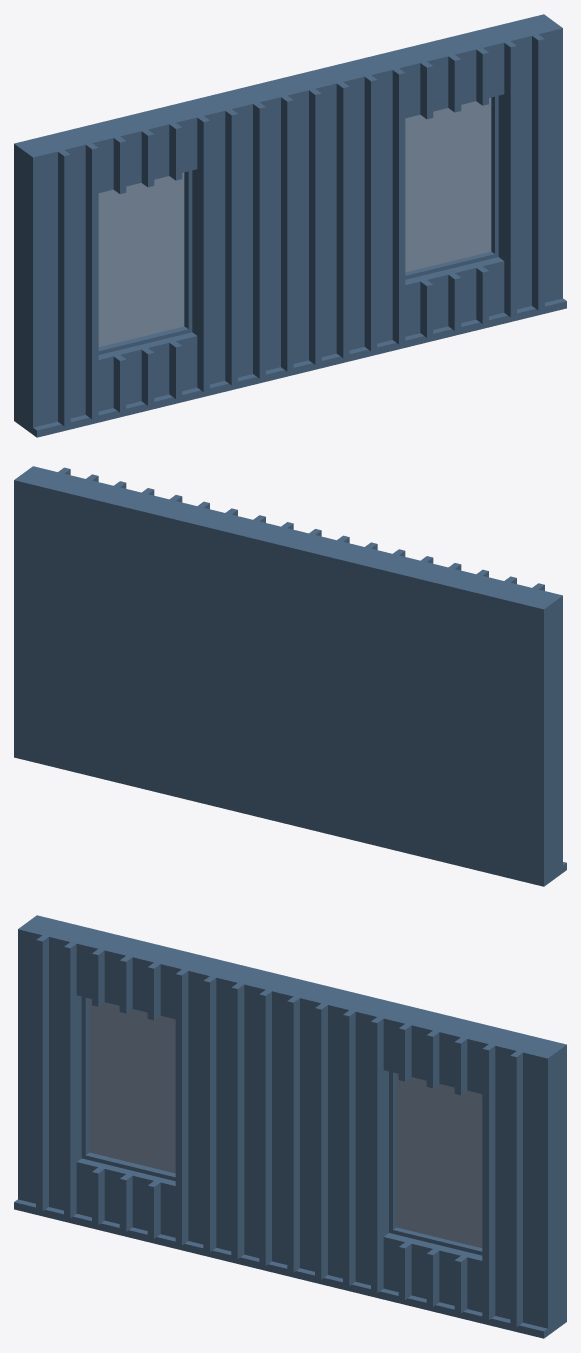
File: SM_Muro_metallico_due_finestre.fbx
3 views of the same model, one above another, from view 1: azimuth 30°, elevation 25°; view 2: azimuth 150°, elevation 25°; view 3: azimuth 330°, elevation 25° (orthographic).
Parts seen in each view (by area): view 1: SM_Muro_metallico1_finestra1_uv_ok; view 2: SM_Muro_metallico1_finestra1_uv_ok; view 3: SM_Muro_metallico1_finestra1_uv_ok.
Boxes of the visible parts, <box> form: SM_Muro_metallico1_finestra1_uv_ok: <box>14,14,566,437</box>; SM_Muro_metallico1_finestra1_uv_ok: <box>14,466,566,886</box>; SM_Muro_metallico1_finestra1_uv_ok: <box>14,915,566,1338</box>.
Bounding box in the file's own units: 0.04 × 0.02 × 0.00334.
